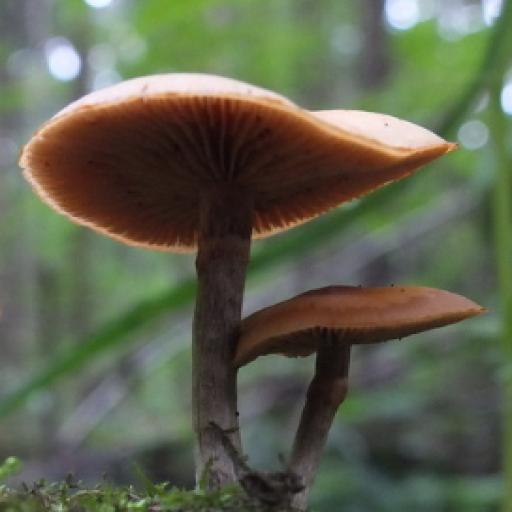mushroom: (16, 64, 494, 433)
